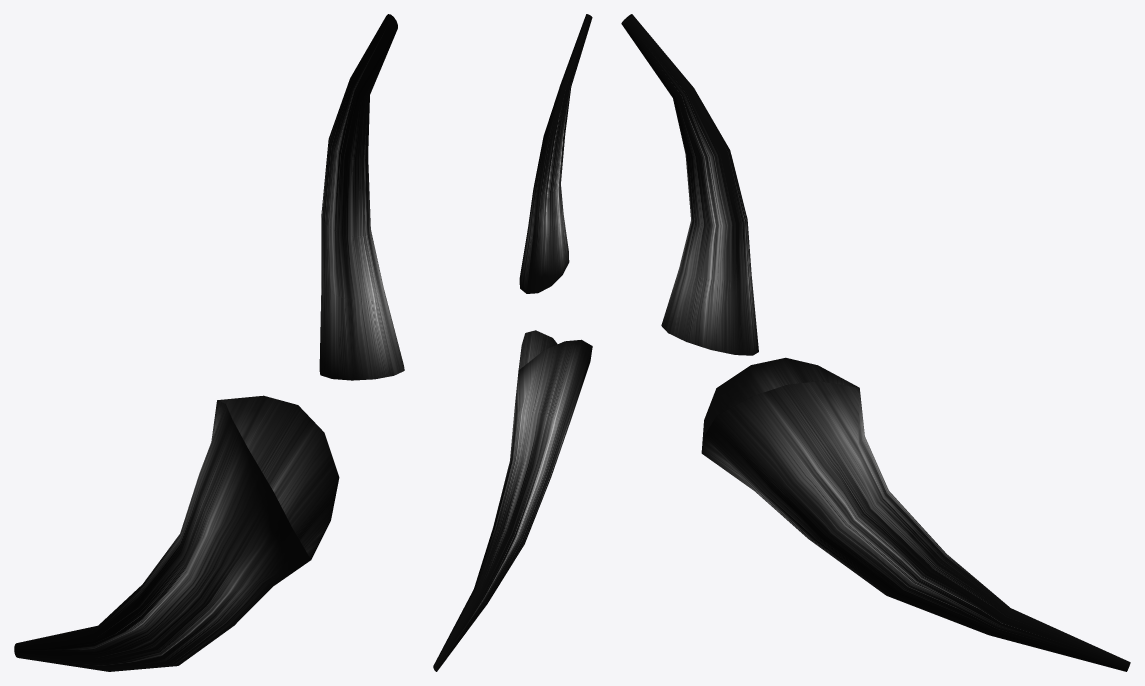
The model's file is FX_lfl_wuqi_803_chi.FBX.
The picture shows the model from 3 angles, left to right: view 1: azimuth 30°, elevation 25°; view 2: azimuth 150°, elevation 25°; view 3: azimuth 270°, elevation 25°; orthographic projection. The views are drawn at different scales.
Parts seen in each view (by area): view 1: Cylinder002, Cylinder001; view 2: Cylinder002, Cylinder001; view 3: Cylinder002, Cylinder001.
Boxes of the visible parts, box(x1,y1,x2,y2) form: Cylinder002: box(14, 395, 339, 671); Cylinder001: box(319, 14, 404, 380); Cylinder002: box(433, 330, 592, 671); Cylinder001: box(519, 14, 592, 293); Cylinder002: box(701, 357, 1130, 671); Cylinder001: box(621, 14, 758, 355).
Size of the model in its own units: 3.82 by 26.47 by 17.96.
Materials: 1 (1 with a texture image).
